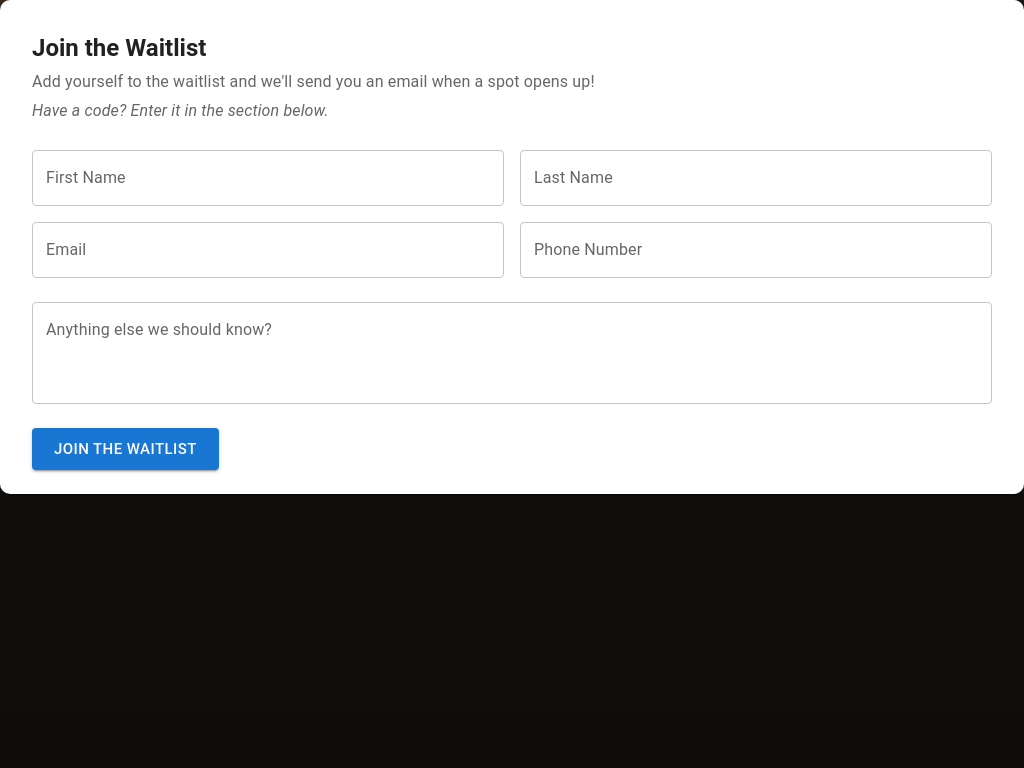
WaitlistForm › error handling › shows an error alert when the server returns a non-ok response
Type "Jane" into the field labelled "First Name" at (268, 178), box x1=32 y1=150 x2=504 y2=206
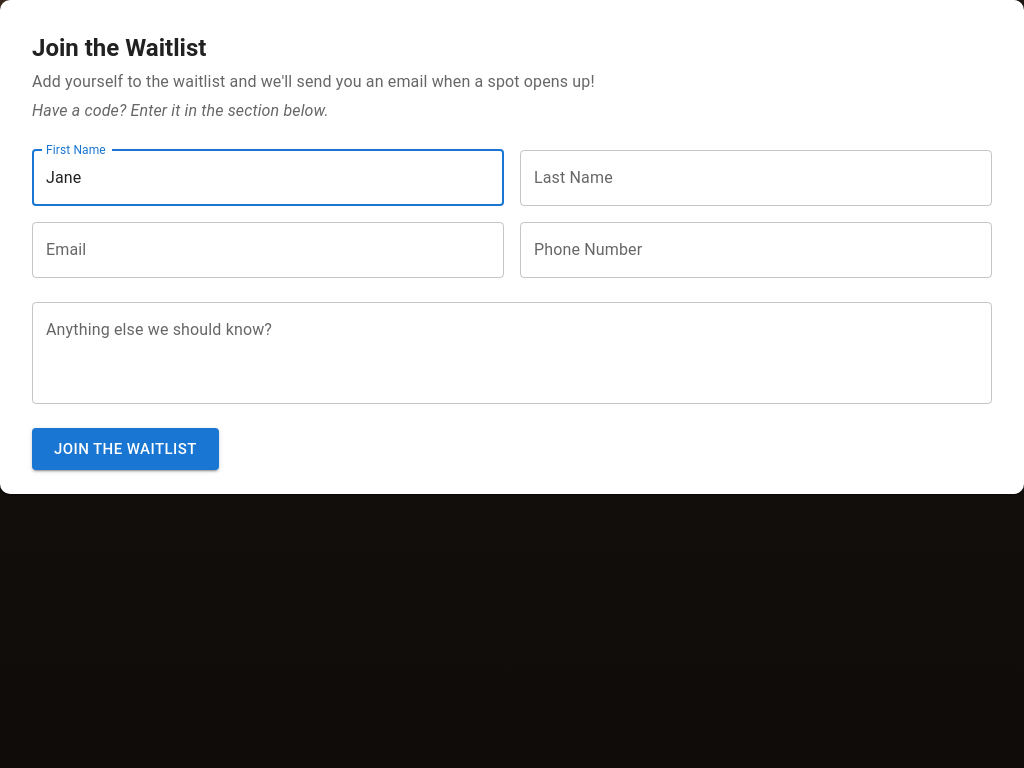
Type "Doe" into the field labelled "Last Name" at (756, 178), box x1=520 y1=150 x2=992 y2=206
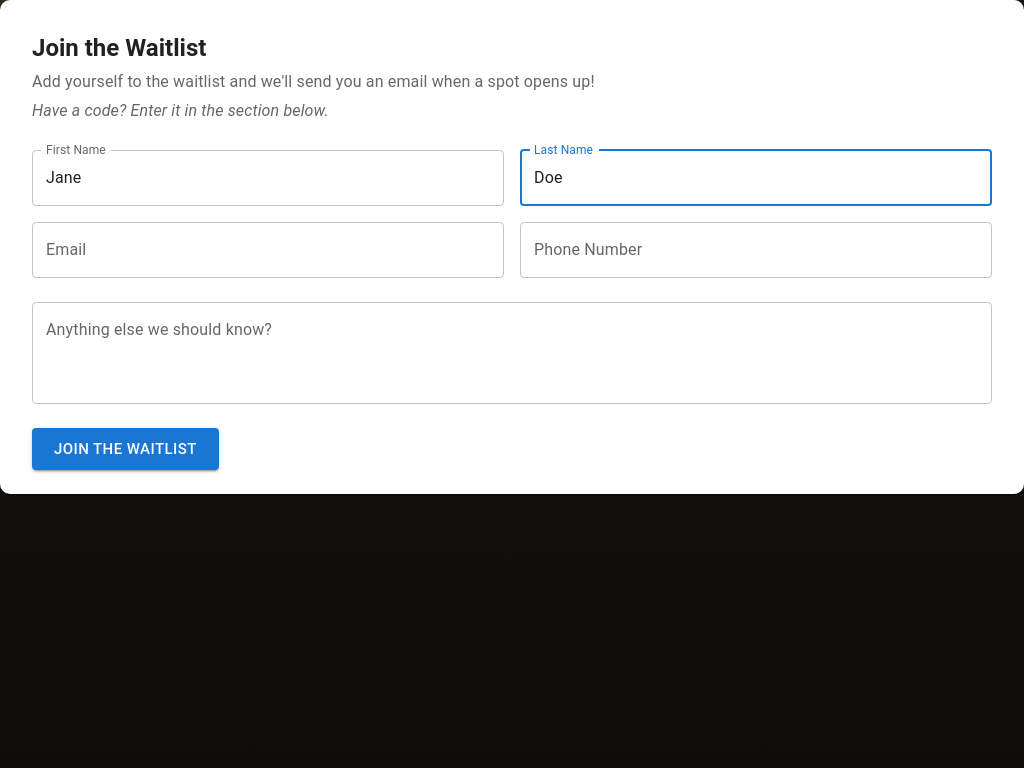
Type "jane@example.com" into the field labelled "Email" at (268, 250), box x1=32 y1=222 x2=504 y2=278
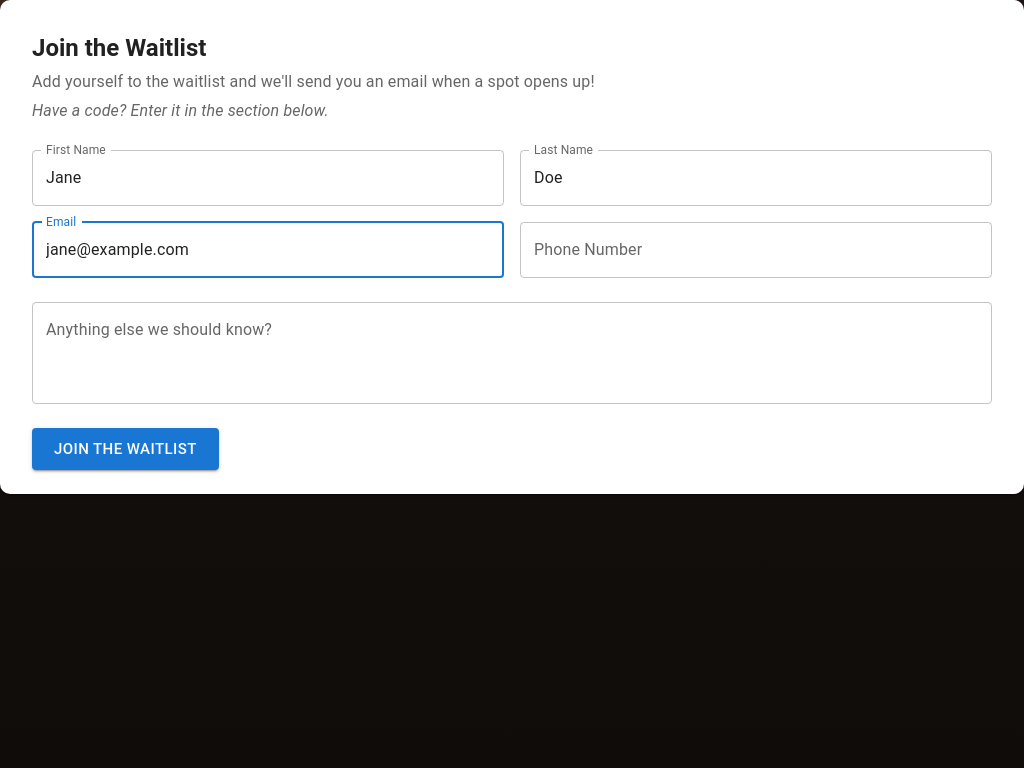
Type "555-0100" into the field labelled "Phone Number" at (756, 250), box x1=520 y1=222 x2=992 y2=278
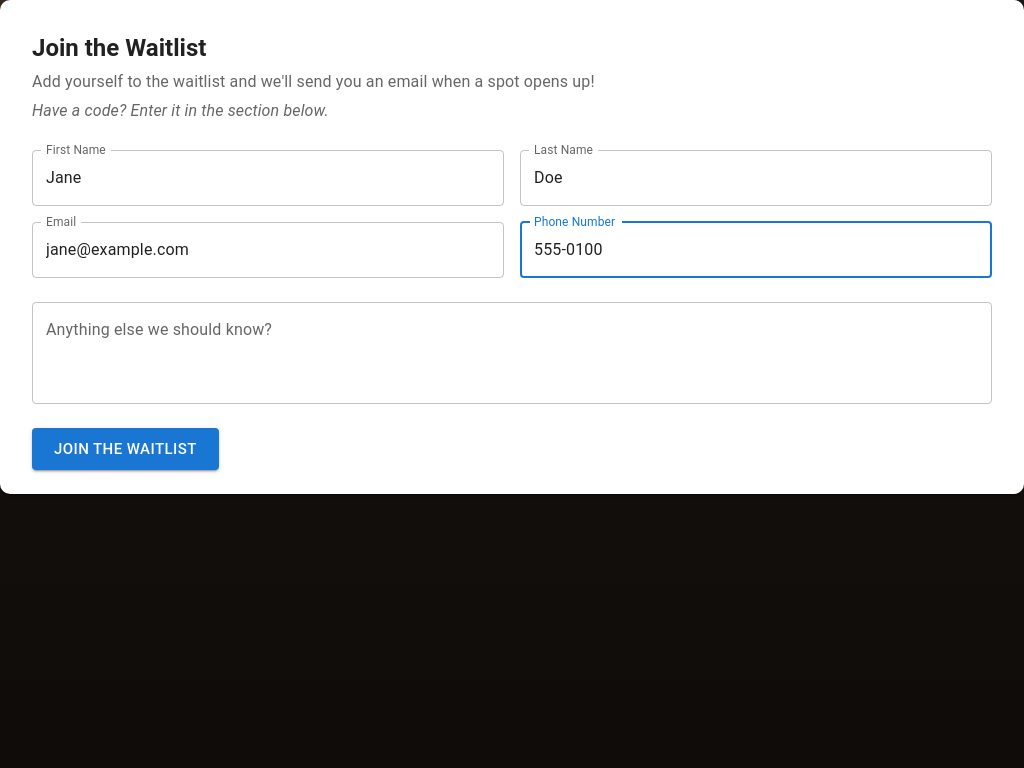
Click the button "Join the Waitlist" at (125, 449), box x1=32 y1=428 x2=219 y2=470
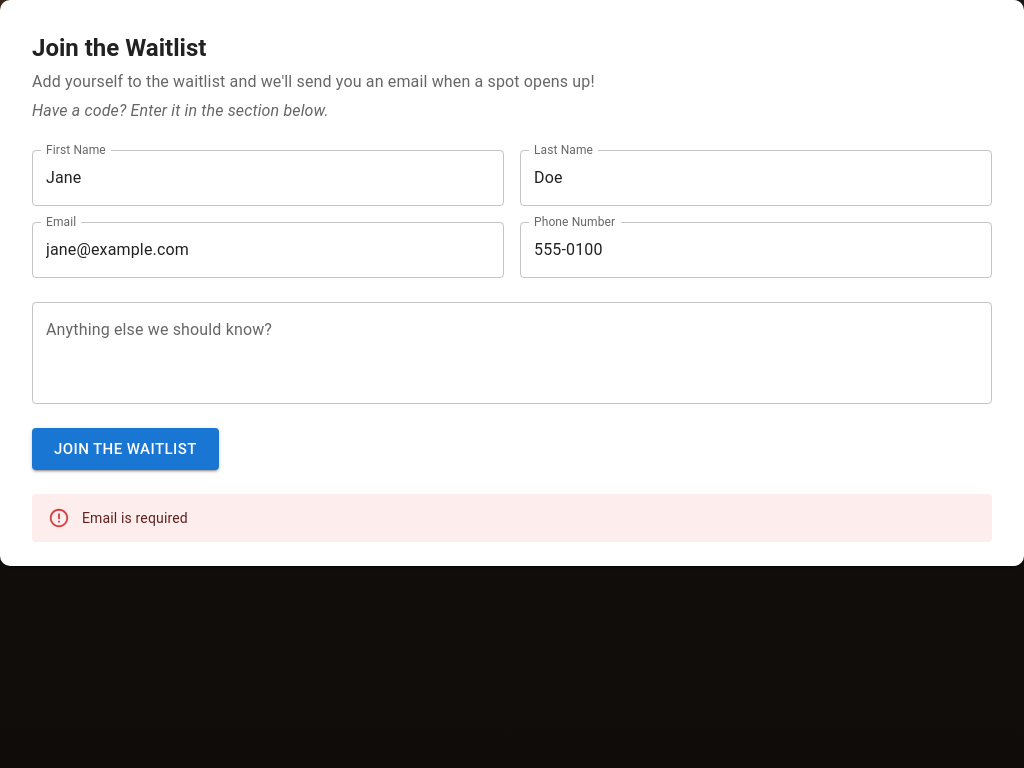
Check: the message reads "Email is required", box x1=82 y1=510 x2=188 y2=526
